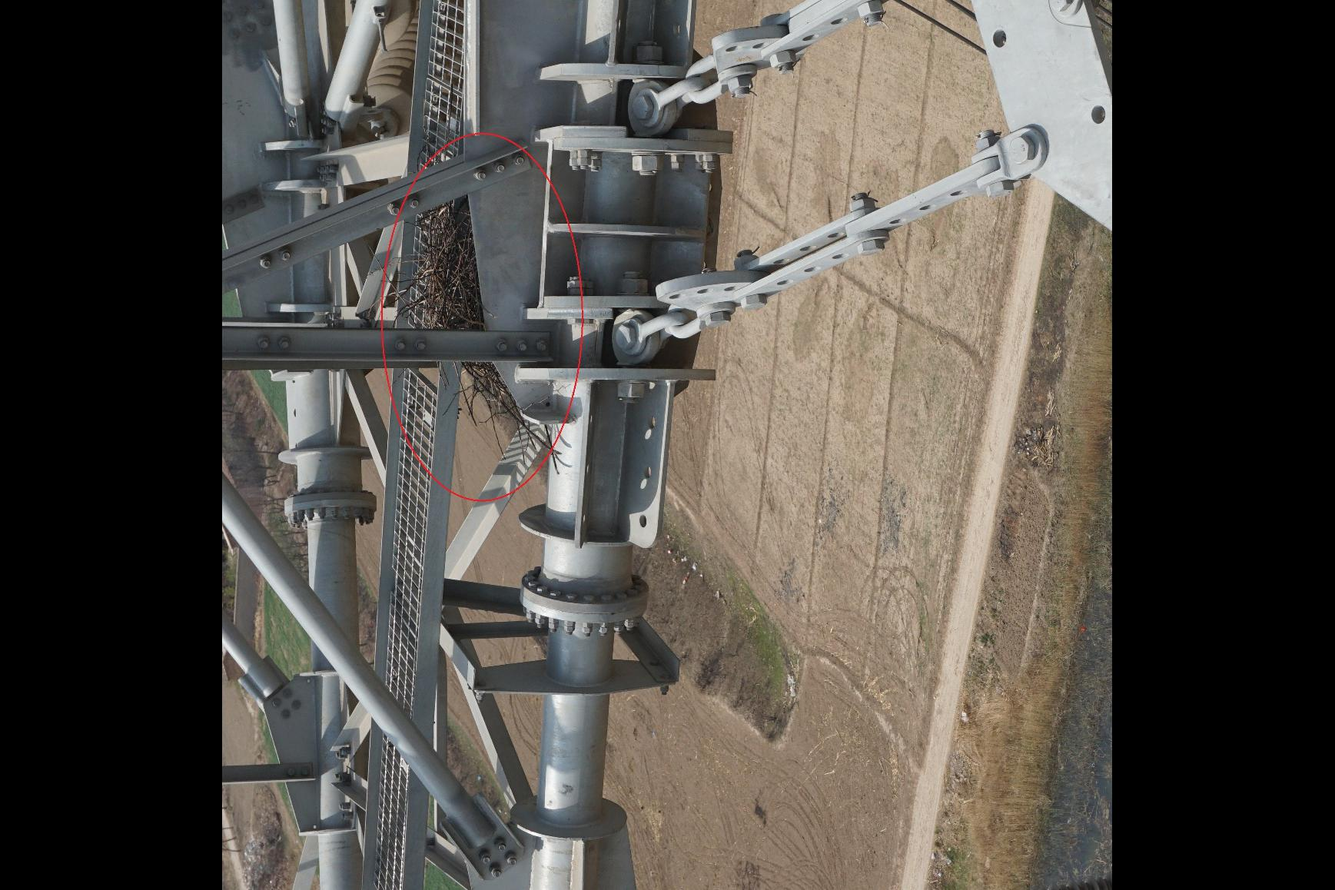nest: (387, 188, 547, 468)
